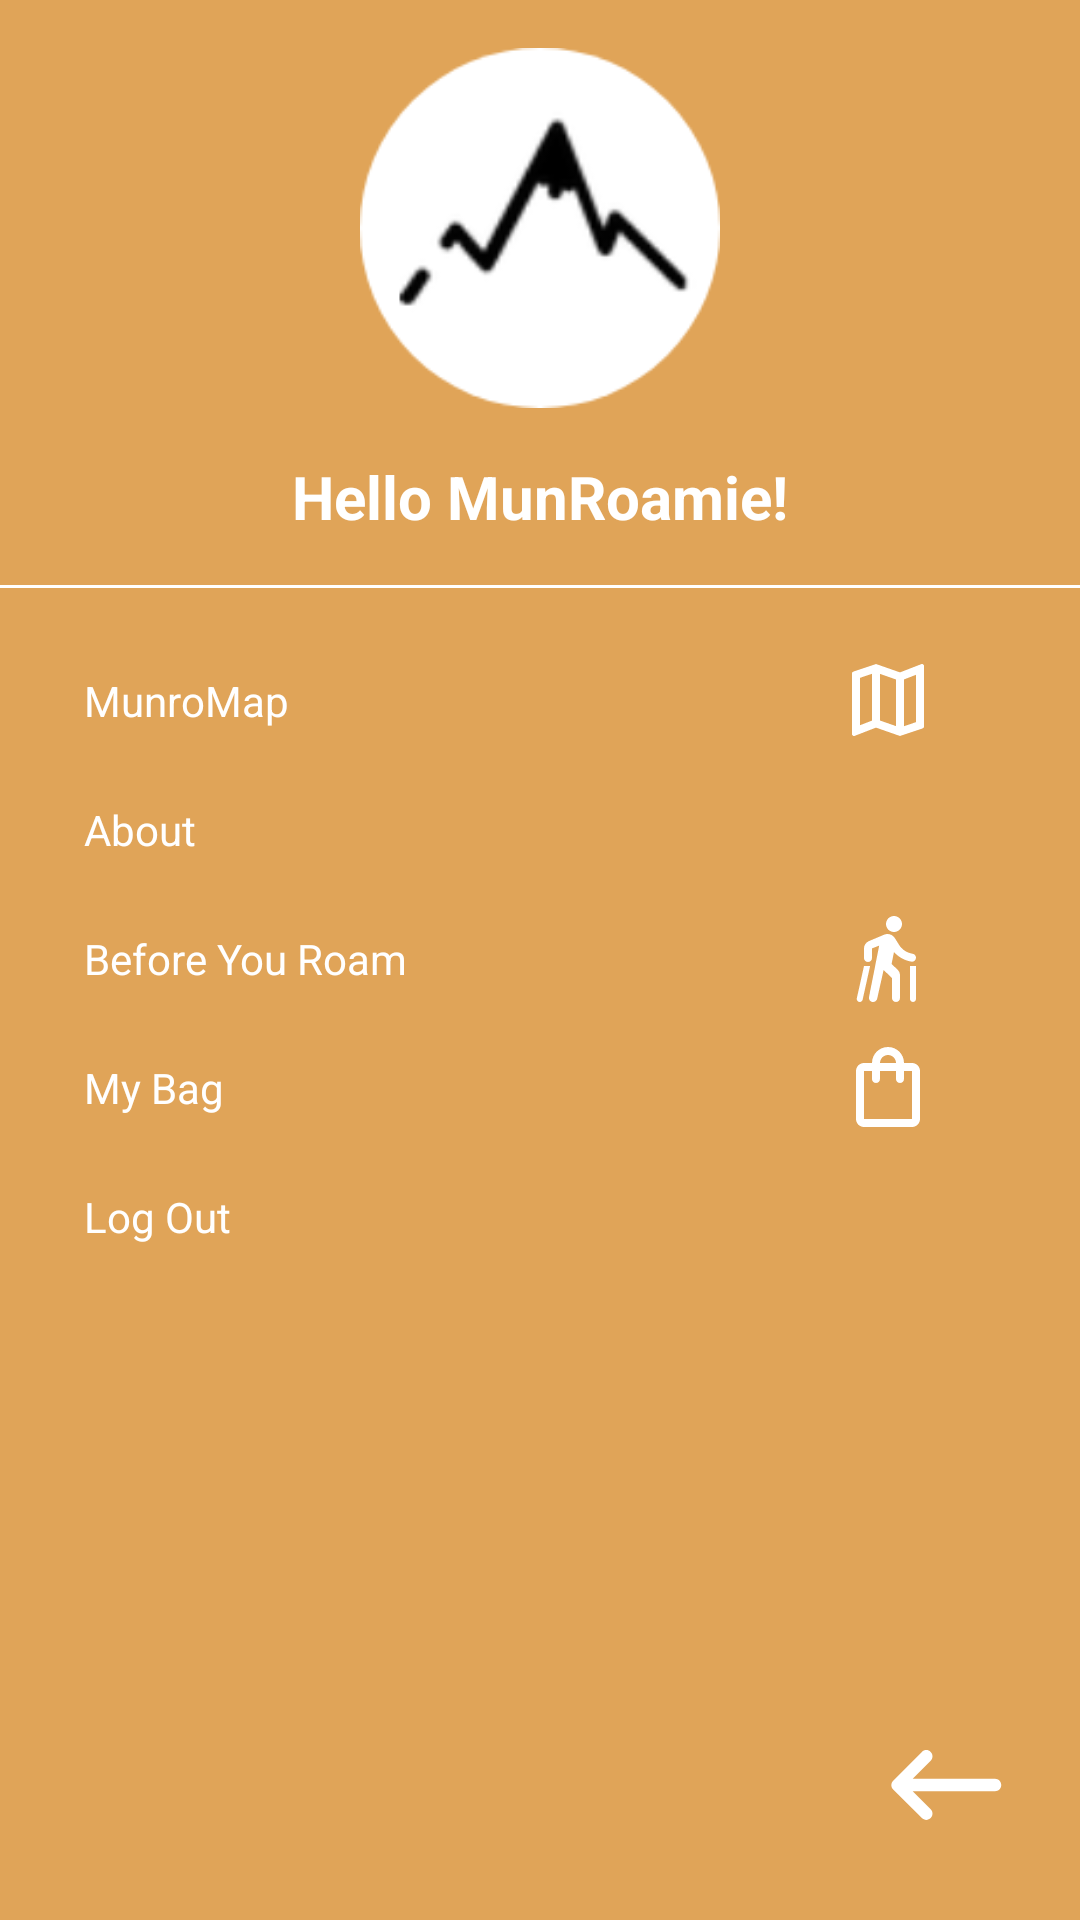

Icon click points for this 1080 × 1920 phone screenshot, format [x,y]:
back: [946,1785]
just mountains circle: [540,228]
map: [888,700]
